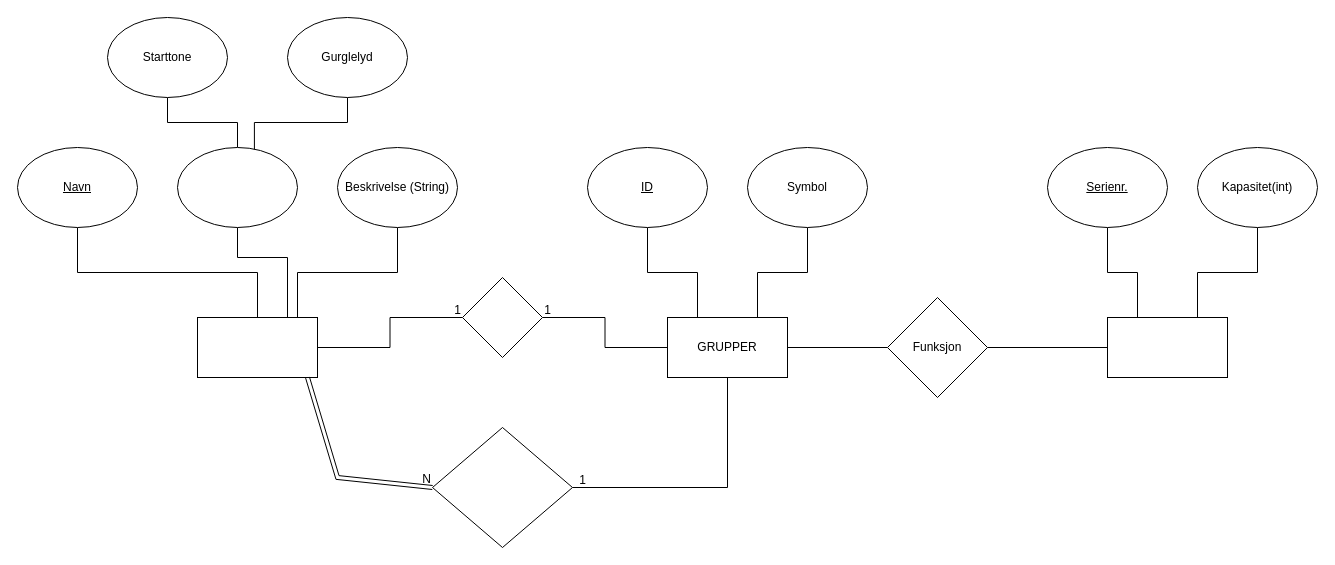
This 1335x565 diagram has some shape labels left out. Each missing label, with the centre of its shape:
Leder_for: [502,317]
Lyd: [237,187]
Organisert_i: [502,487]
ROMSKIP: [1167,347]
ROMVESEN: [257,347]
